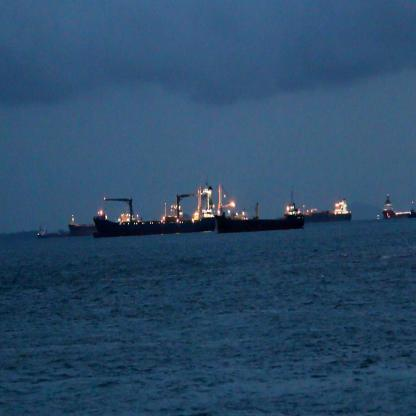Container Ship: (93, 182, 216, 236), (216, 182, 306, 231), (305, 196, 353, 222), (383, 190, 415, 219), (68, 211, 96, 237), (36, 222, 70, 240), (383, 212, 391, 219)
